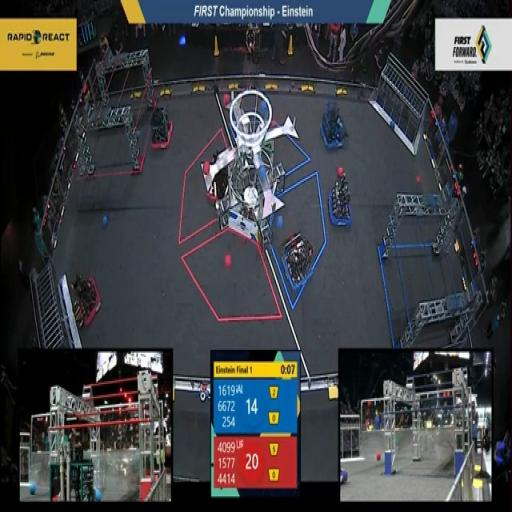robot: (66, 269, 104, 333), (279, 228, 316, 288), (326, 162, 356, 229), (202, 146, 234, 205), (319, 98, 350, 152), (146, 100, 174, 152)
